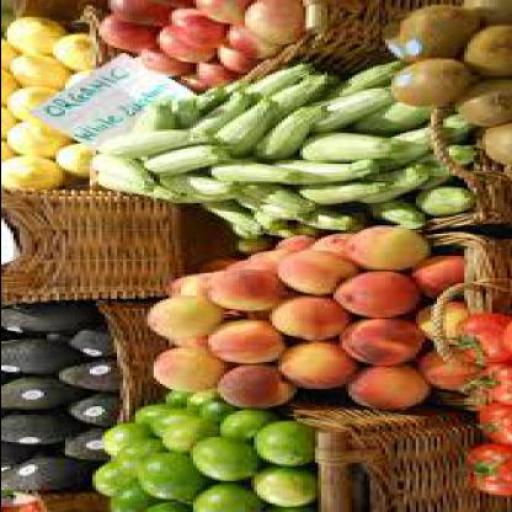biodegradable: (396, 8, 479, 62), (384, 114, 473, 164), (296, 88, 387, 136), (330, 272, 420, 320), (271, 341, 354, 393), (387, 60, 476, 108), (335, 320, 424, 368), (250, 106, 328, 159), (341, 365, 427, 413), (338, 229, 430, 273), (207, 101, 274, 159), (213, 364, 290, 413), (274, 252, 354, 299), (265, 297, 344, 342), (92, 131, 210, 161), (204, 321, 281, 365), (146, 348, 220, 393), (143, 299, 220, 341), (347, 165, 423, 207), (266, 160, 372, 190), (1, 459, 80, 499), (290, 136, 402, 164), (451, 312, 509, 366), (204, 272, 278, 314), (1, 304, 97, 336), (186, 438, 250, 485), (183, 96, 253, 138), (247, 422, 308, 470), (137, 146, 226, 178), (232, 65, 311, 101), (457, 26, 509, 80), (402, 148, 472, 188), (414, 348, 476, 393), (451, 80, 509, 128), (134, 454, 192, 502), (238, 2, 299, 46), (344, 104, 430, 135), (322, 63, 396, 99), (164, 8, 226, 50), (2, 377, 76, 412), (2, 341, 76, 375), (460, 447, 509, 498), (232, 184, 311, 214), (92, 16, 156, 52), (195, 203, 259, 239), (412, 256, 463, 300), (412, 304, 463, 348), (247, 473, 311, 508), (2, 125, 64, 161), (225, 194, 299, 224), (186, 482, 261, 511), (88, 159, 150, 194), (4, 18, 58, 58), (103, 2, 186, 28), (262, 75, 329, 107), (0, 159, 62, 193), (152, 28, 210, 64), (1, 416, 64, 449), (408, 188, 472, 220), (6, 55, 64, 90), (293, 184, 384, 206), (156, 420, 214, 454), (207, 164, 296, 186), (378, 12, 415, 64), (223, 25, 277, 60), (216, 411, 270, 446), (52, 364, 113, 394), (3, 89, 55, 123), (58, 428, 107, 464), (98, 423, 146, 459), (89, 462, 134, 500), (46, 36, 94, 71), (359, 203, 421, 230), (466, 365, 508, 404), (134, 47, 188, 77), (469, 406, 509, 446), (106, 481, 159, 511), (125, 103, 174, 135), (128, 406, 174, 438), (67, 396, 116, 426), (476, 125, 509, 169), (178, 176, 232, 202), (58, 332, 107, 360), (192, 1, 246, 26), (457, 1, 509, 26), (128, 179, 180, 204), (296, 210, 354, 232), (189, 62, 238, 88), (52, 145, 88, 179), (162, 188, 232, 205), (216, 48, 253, 75), (162, 276, 201, 301), (189, 89, 222, 118), (241, 213, 286, 233), (176, 392, 210, 418), (195, 400, 228, 426), (1, 446, 33, 472), (240, 253, 278, 273), (271, 238, 311, 252), (1, 106, 16, 141), (232, 240, 268, 254), (158, 391, 183, 411), (1, 138, 16, 167), (142, 501, 184, 511), (165, 338, 207, 348), (2, 70, 12, 107), (497, 326, 509, 355), (2, 40, 12, 72), (222, 262, 244, 272), (258, 508, 312, 511)
